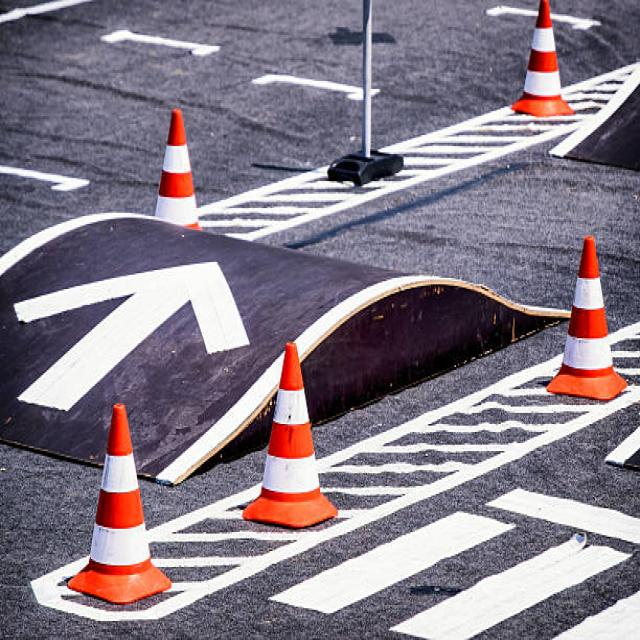Traffic Cone: (54, 371, 190, 634), (238, 319, 349, 547), (539, 219, 636, 432), (141, 88, 215, 249), (502, 0, 587, 134)
